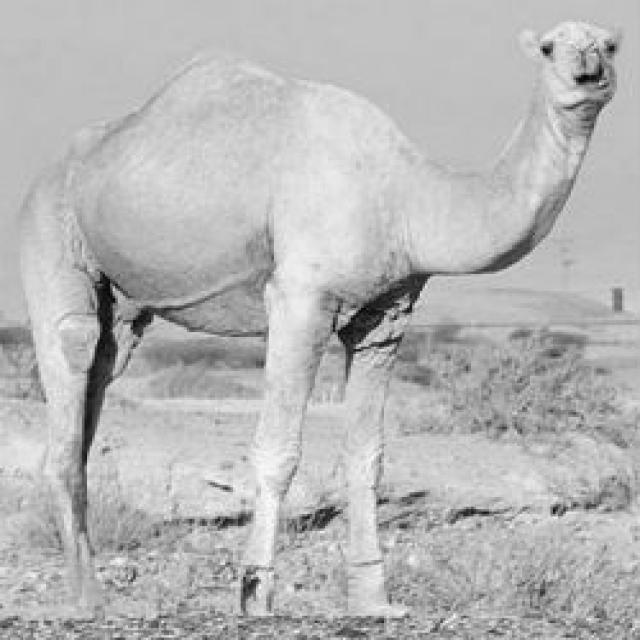Camel: (15, 17, 625, 621)
